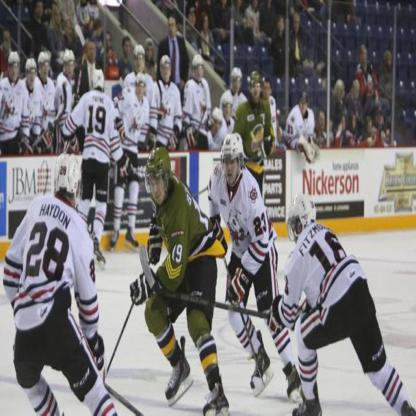face: (150, 176, 166, 205), (225, 160, 238, 185), (10, 64, 19, 81), (252, 84, 261, 99), (5, 32, 12, 51), (163, 66, 171, 82), (169, 18, 176, 36), (89, 45, 97, 60), (29, 70, 37, 85), (319, 113, 326, 130), (195, 68, 204, 81), (137, 84, 145, 98), (68, 62, 75, 77), (42, 64, 49, 79), (37, 3, 44, 18), (215, 121, 222, 136), (105, 36, 112, 50), (226, 104, 232, 120), (265, 84, 271, 100), (234, 81, 241, 94), (189, 13, 196, 26), (136, 56, 142, 71), (125, 42, 131, 57), (147, 47, 154, 59), (295, 19, 301, 33), (301, 100, 307, 113), (361, 50, 367, 63), (341, 118, 347, 131), (279, 19, 285, 31), (338, 87, 344, 98), (56, 11, 61, 24), (205, 18, 210, 31), (66, 23, 71, 35), (368, 123, 373, 134), (355, 88, 360, 98), (379, 115, 384, 125), (387, 58, 392, 68)
